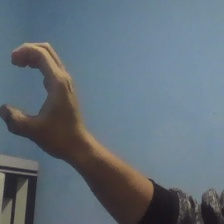C: (1, 36, 82, 164)
